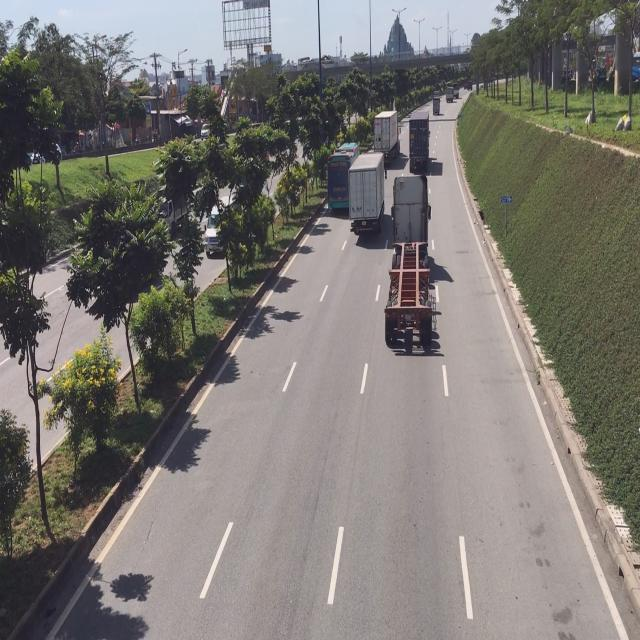truck: (388, 171, 433, 346), (350, 149, 385, 235), (326, 142, 356, 211), (375, 110, 401, 167), (410, 113, 430, 176)
